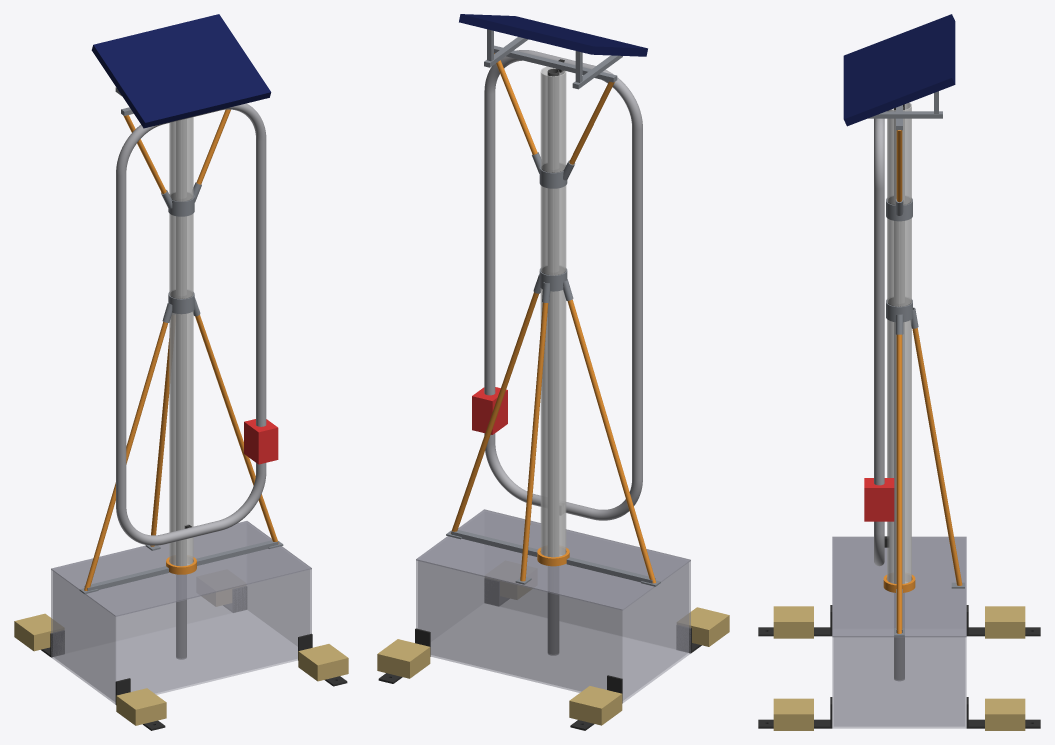
The model's file is 20261107-141826-0fff.glb.
3 renders of one model, left to right at view 1: azimuth 30°, elevation 25°; view 2: azimuth 150°, elevation 25°; view 3: azimuth 270°, elevation 25°, orthographic. The views are drawn at different scales.
Visible parts, largest first — view 1: tank, solar_panel_30W, lid, track_loop, growing_pipe, spine_tube, sandbags, lower_aframe_and_back_strut_16mm, fold_out_feet, base_bar_and_lid_plates, cart, clamp_collars_50mm (+1 smaller); view 2: tank, growing_pipe, lid, track_loop, spine_tube, lower_aframe_and_back_strut_16mm, sandbags, solar_panel_30W, fold_out_feet, base_bar_and_lid_plates, clamp_collars_50mm, panel_rails_and_posts (+3 smaller); view 3: tank, lid, growing_pipe, solar_panel_30W, sandbags, track_loop, lower_aframe_and_back_strut_16mm, spine_tube, fold_out_feet, cart, clamp_collars_50mm, panel_rails_and_posts (+1 smaller).
Part boxes in pixels (x1,y1,x2,y2): tank: (51, 522, 311, 704); solar_panel_30W: (91, 14, 271, 128); lid: (51, 521, 311, 616); track_loop: (116, 103, 266, 545); growing_pipe: (169, 117, 193, 566); spine_tube: (176, 119, 186, 659); sandbags: (14, 589, 348, 725); lower_aframe_and_back_strut_16mm: (84, 315, 278, 590); fold_out_feet: (41, 586, 347, 730); base_bar_and_lid_plates: (79, 540, 283, 594); cart: (244, 419, 278, 464); clamp_collars_50mm: (161, 182, 201, 322); tank: (416, 511, 690, 702); growing_pipe: (540, 66, 566, 557); lid: (416, 509, 690, 610); track_loop: (484, 50, 642, 520); spine_tube: (547, 68, 559, 655); lower_aframe_and_back_strut_16mm: (451, 292, 656, 583); sandbags: (377, 581, 729, 725); solar_panel_30W: (459, 14, 647, 56); fold_out_feet: (378, 578, 701, 730); base_bar_and_lid_plates: (446, 530, 660, 586); clamp_collars_50mm: (532, 152, 575, 302); panel_rails_and_posts: (484, 29, 622, 89); tank: (832, 637, 966, 728); lid: (832, 536, 966, 637); growing_pipe: (887, 102, 911, 583); solar_panel_30W: (843, 14, 955, 126); sandbags: (773, 606, 1025, 730); track_loop: (874, 118, 884, 566); lower_aframe_and_back_strut_16mm: (896, 328, 962, 633); spine_tube: (894, 104, 904, 680); fold_out_feet: (758, 605, 1040, 728); cart: (864, 478, 894, 521); clamp_collars_50mm: (886, 198, 918, 334); panel_rails_and_posts: (868, 91, 942, 118).
Size of the model in its own units: 760 by 2080 by 840.
